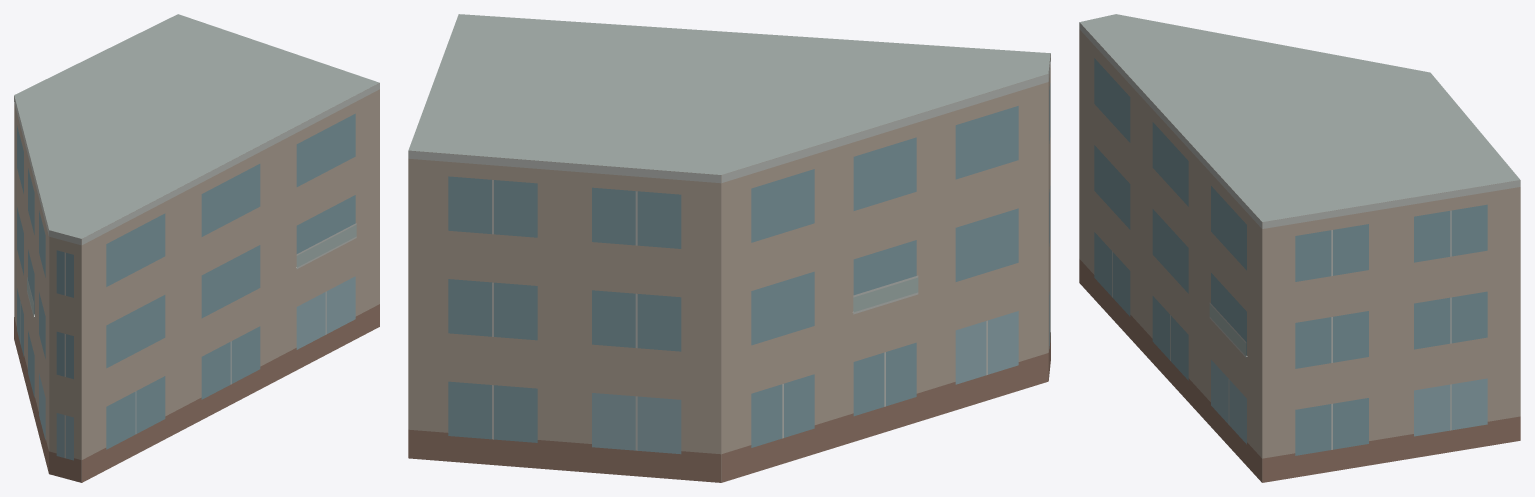
Rendered from survey-upis-32751717.glb.
3 views of the same model, side by side, from view 1: azimuth 30°, elevation 25°; view 2: azimuth 150°, elevation 25°; view 3: azimuth 270°, elevation 25° (orthographic). The views are drawn at different scales.
Visible parts, largest first — view 1: survey-upis-32751717.tmp; view 2: survey-upis-32751717.tmp; view 3: survey-upis-32751717.tmp.
Boxes of the visible parts, bbox=[...] form: survey-upis-32751717.tmp: bbox=[14, 14, 379, 482]; survey-upis-32751717.tmp: bbox=[408, 14, 1050, 482]; survey-upis-32751717.tmp: bbox=[1079, 14, 1520, 482].
Size of the model in its own units: 15.68 by 9.15 by 14.04.
